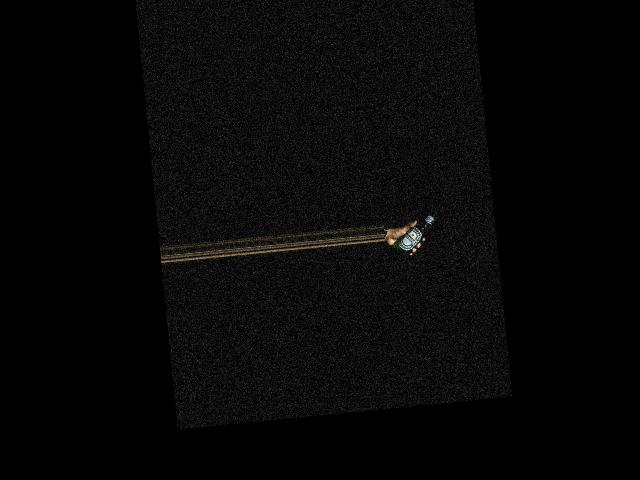beer: (387, 209, 444, 258)
